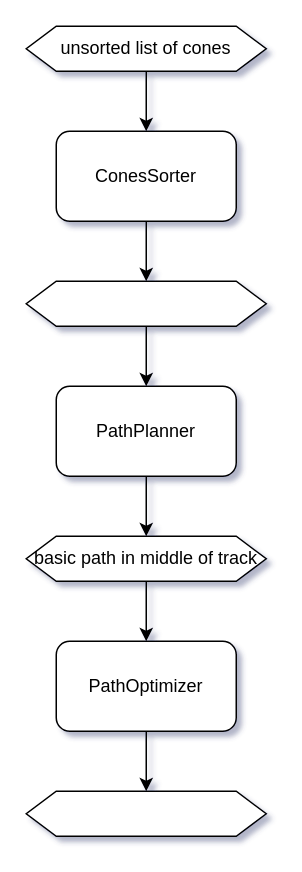
Image size: 302x872. Some labels were removed from this diagram. The shapes that lost their labels are listed below. From the top down, each one's box as (x1, y1, x2, y2) in pixels, then its label:
(25, 280, 266, 326): sorted list of cones
(25, 790, 266, 836): optimized path
